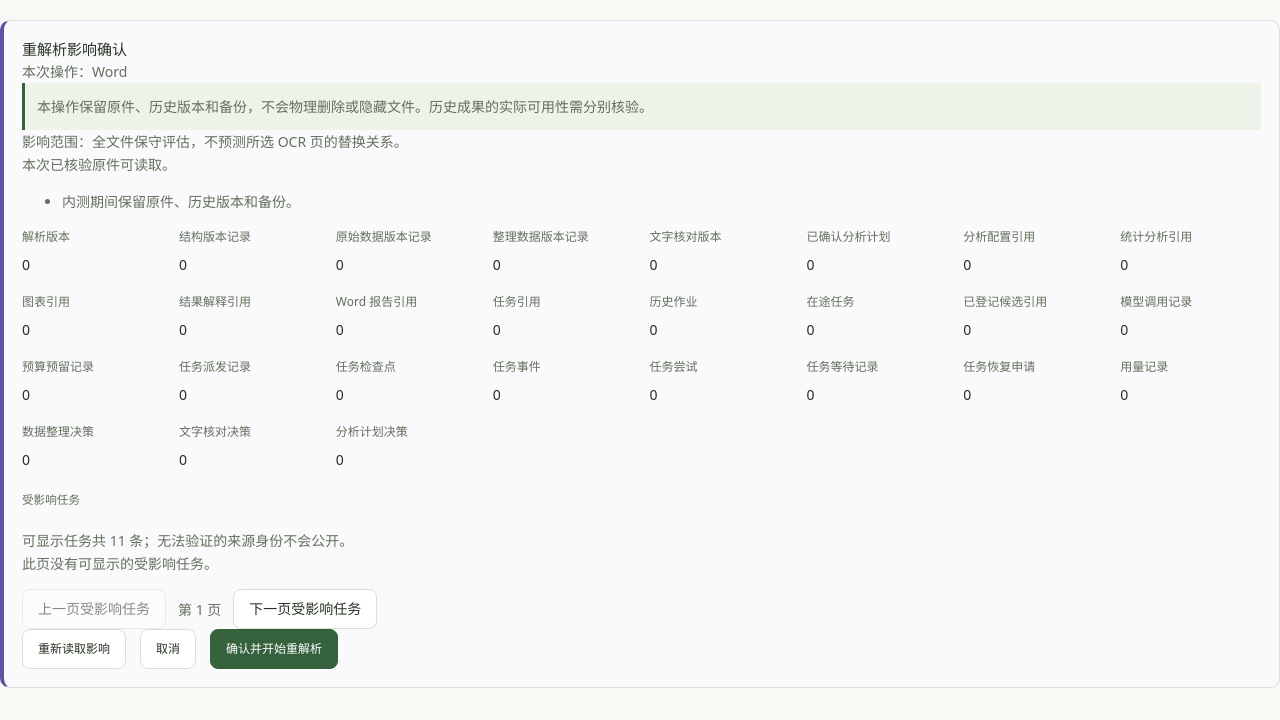
losing permission while paging tasks clears the prior assessment instead of retaining its details
This screenshot has width=1280, height=720.
Expected: the text "本次已核验原件可读取。" is shown, [22,155,176,174]
Click the button "下一页受影响任务".
click(305, 609)  # box [233,589,377,629]
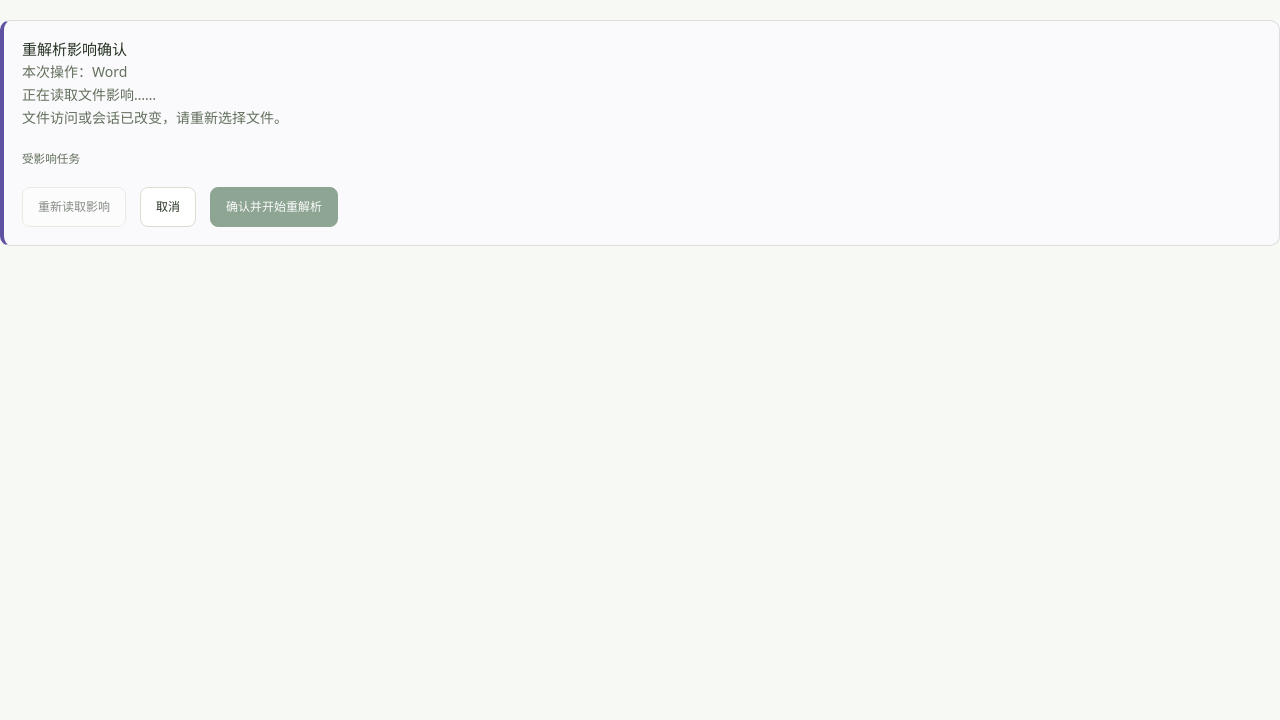
Expected: the text "本次已核验原件可读取。" is gone
